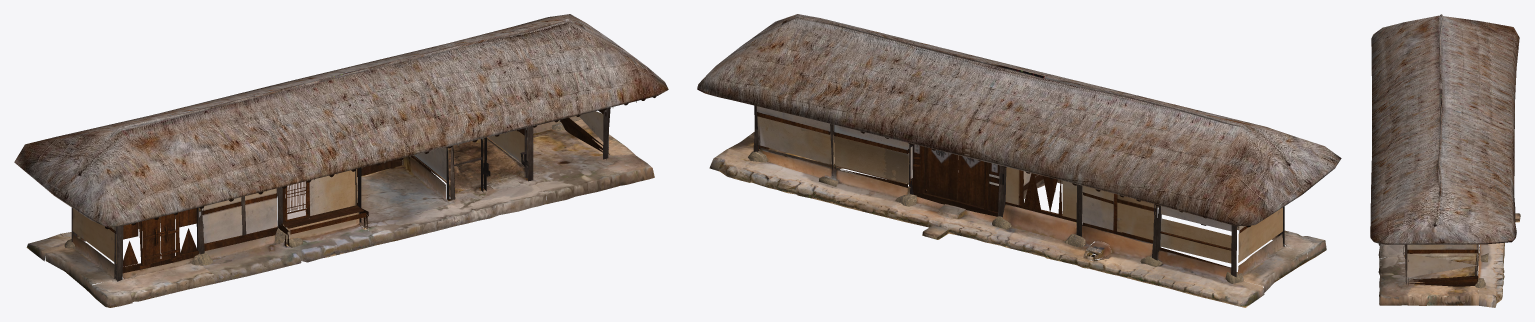
File: chogajip2.glb
3 views of the same model, side by side, from view 1: azimuth 30°, elevation 25°; view 2: azimuth 150°, elevation 25°; view 3: azimuth 270°, elevation 25° (orthographic). The views are drawn at different scales.
Parts seen in each view (by area): view 1: polySurface13, polySurface5, polySurface6, polySurface8, polySurface57, polySurface34, polySurface1, polySurface68, polySurface274, polySurface95, polySurface296, polySurface7 (+9 smaller); view 2: polySurface13, polySurface7, polySurface37, polySurface35, polySurface6, polySurface65, polySurface11, polySurface1, polySurface4, polySurface280, polySurface68, polySurface52 (+6 smaller); view 3: polySurface13, polySurface5, polySurface44, polySurface7, polySurface1, polySurface49, polySurface45, polySurface47, polySurface77.
Boxes of the visible parts, box(x1,y1,x2,y2) form: polySurface13: box(14, 14, 668, 227); polySurface5: box(357, 119, 654, 245); polySurface6: box(44, 234, 214, 307); polySurface8: box(203, 212, 375, 283); polySurface57: box(202, 188, 277, 243); polySurface34: box(306, 169, 356, 216); polySurface1: box(110, 18, 584, 136); polySurface68: box(72, 208, 116, 263); polySurface274: box(281, 205, 366, 234); polySurface95: box(141, 217, 160, 265); polySurface296: box(160, 212, 179, 260); polySurface7: box(26, 116, 581, 261); polySurface13: box(697, 14, 1341, 226); polySurface7: box(709, 149, 1264, 307); polySurface37: box(834, 125, 908, 187); polySurface35: box(757, 106, 830, 164); polySurface6: box(1237, 226, 1326, 292); polySurface65: box(1159, 206, 1231, 267); polySurface11: box(923, 147, 958, 200); polySurface1: box(781, 15, 1251, 132); polySurface4: box(1117, 195, 1155, 239); polySurface280: box(957, 155, 989, 207); polySurface68: box(1238, 207, 1282, 262); polySurface52: box(1082, 185, 1113, 230); polySurface13: box(1370, 15, 1519, 244); polySurface5: box(1378, 243, 1479, 305); polySurface44: box(1407, 244, 1477, 277); polySurface7: box(1478, 213, 1520, 307); polySurface1: box(1437, 14, 1443, 196); polySurface49: box(1408, 279, 1477, 286); polySurface45: box(1411, 277, 1477, 281); polySurface47: box(1409, 275, 1477, 282); polySurface77: box(1404, 244, 1408, 284).
Size of what is drawn, in the model's own units: 22.63 by 5.34 by 6.75.
12 materials, 12 textured.
